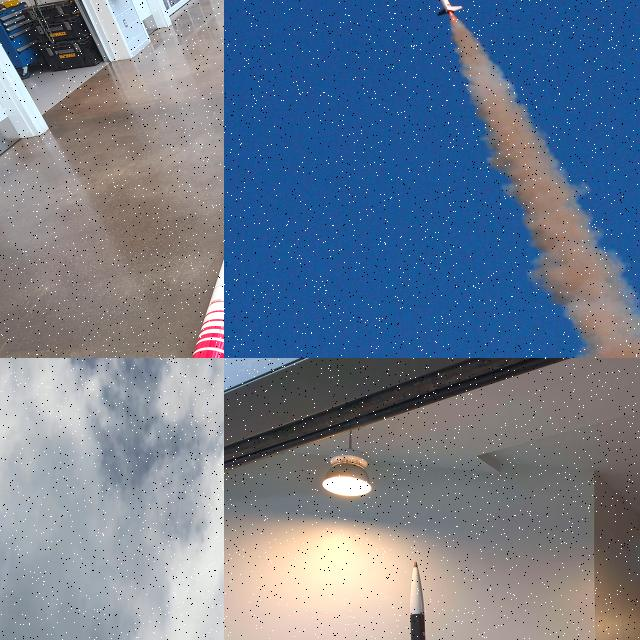Rocket: (430, 0, 463, 16), (197, 439, 200, 447)
